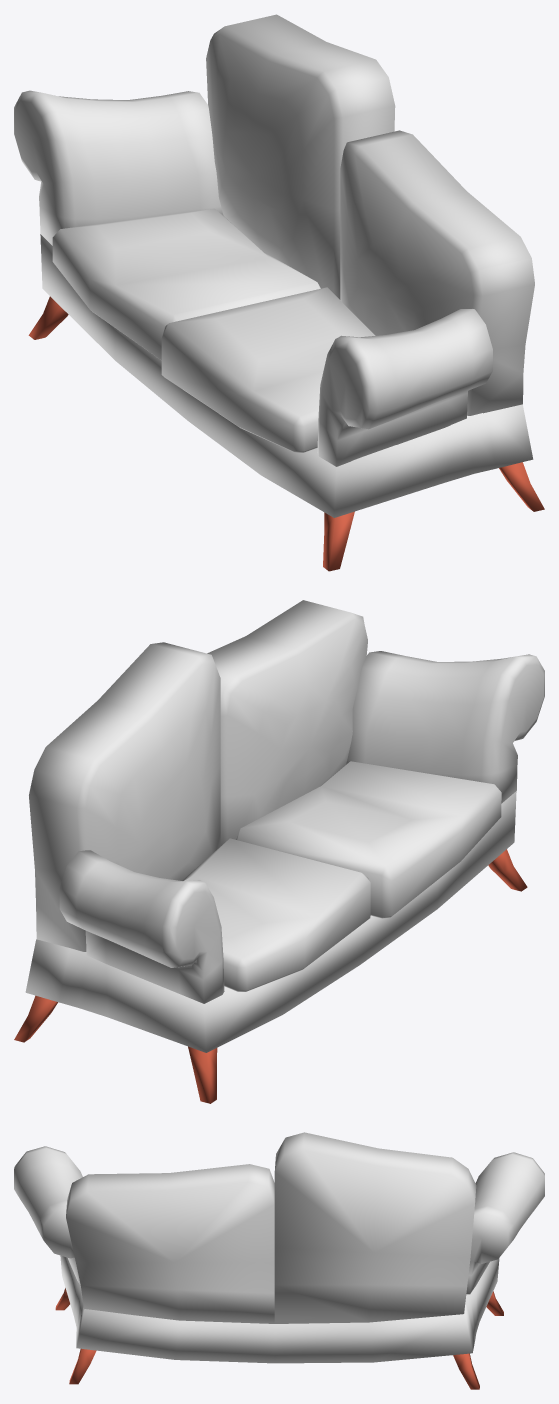
The model's file is Sofa_Classic.fbx.
3 views of the same model, one above another, from view 1: azimuth 30°, elevation 25°; view 2: azimuth 150°, elevation 25°; view 3: azimuth 270°, elevation 25° (orthographic). The views are drawn at different scales.
Visible parts, largest first — view 1: Sofa_Classic; view 2: Sofa_Classic; view 3: Sofa_Classic.
Boxes of the visible parts, x1,y1,x2,y2 form: Sofa_Classic: (14,14,544,571); Sofa_Classic: (14,600,544,1103); Sofa_Classic: (14,1132,544,1389).
Bounding box in the file's own units: 768 × 956 × 1973.
